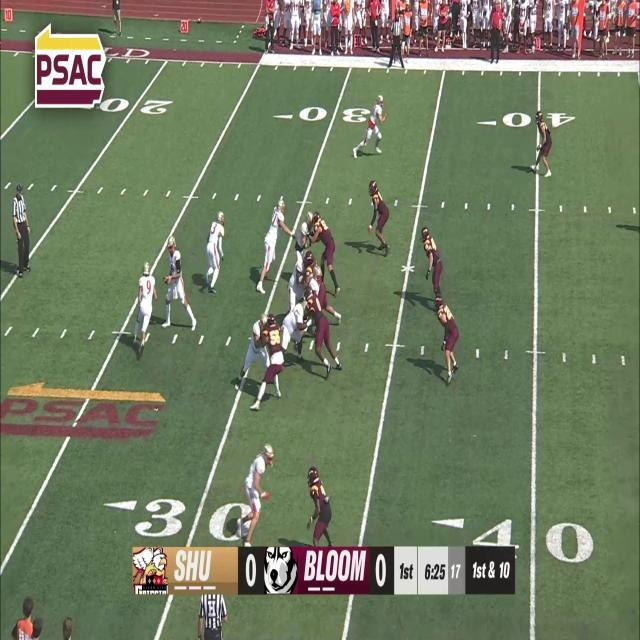football: (162, 276, 170, 286)
